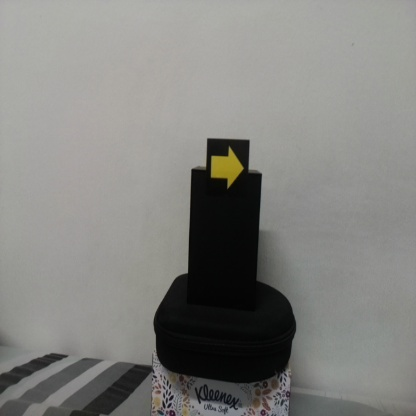id_3: (208, 140, 249, 200)
